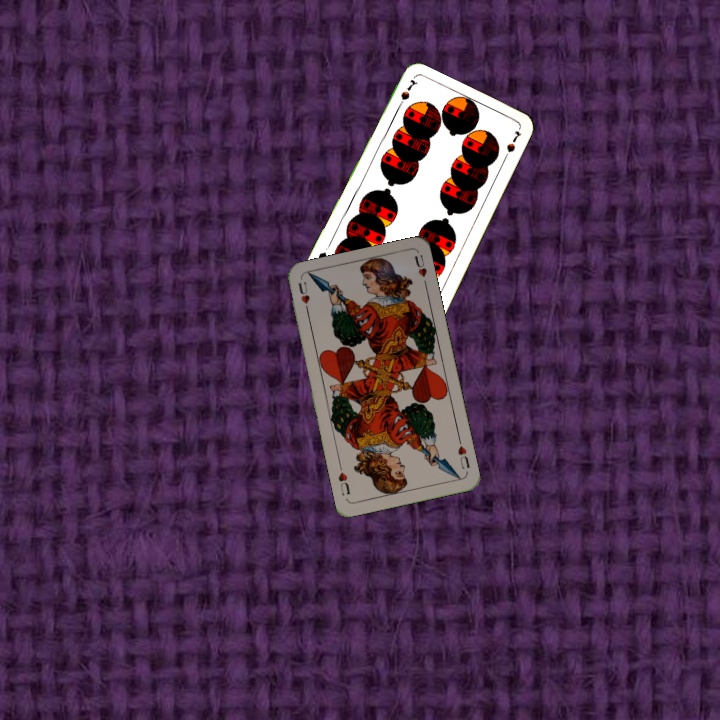HU: (294, 278, 312, 317), (454, 435, 472, 472)
S7: (392, 75, 418, 113)
